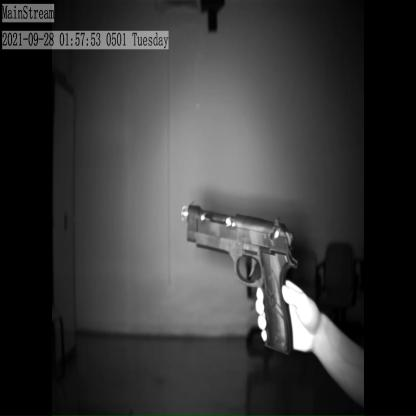weapon: (184, 193, 299, 362)
